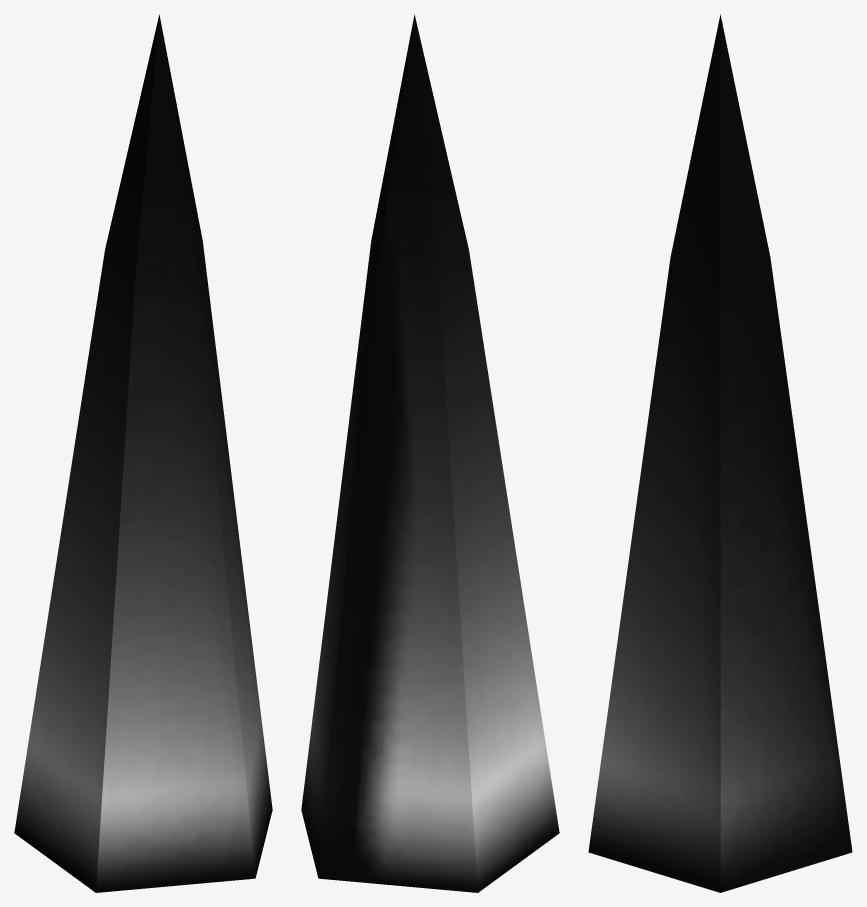
Rendered from 0235_bingzhuci.glb.
3 renders of one model, left to right at view 1: azimuth 30°, elevation 25°; view 2: azimuth 150°, elevation 25°; view 3: azimuth 270°, elevation 25°, orthographic.
Size of the model in its own units: 0.6081 by 2.2 by 0.6393.
1 material, 1 textured.
